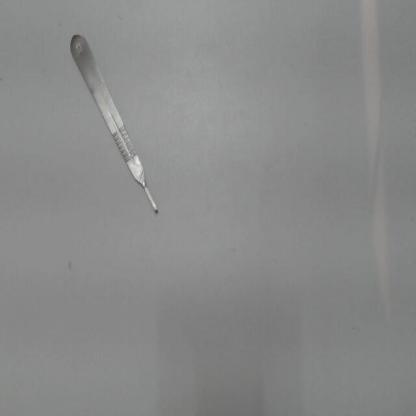No.3 BP Handle: (54, 16, 168, 227)
